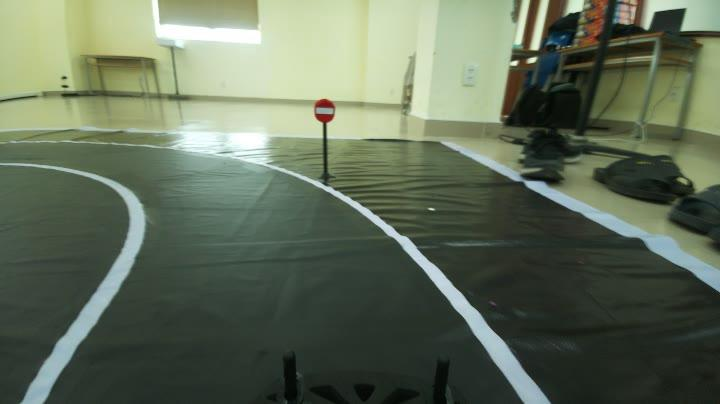no_entry: (302, 92, 342, 127)
